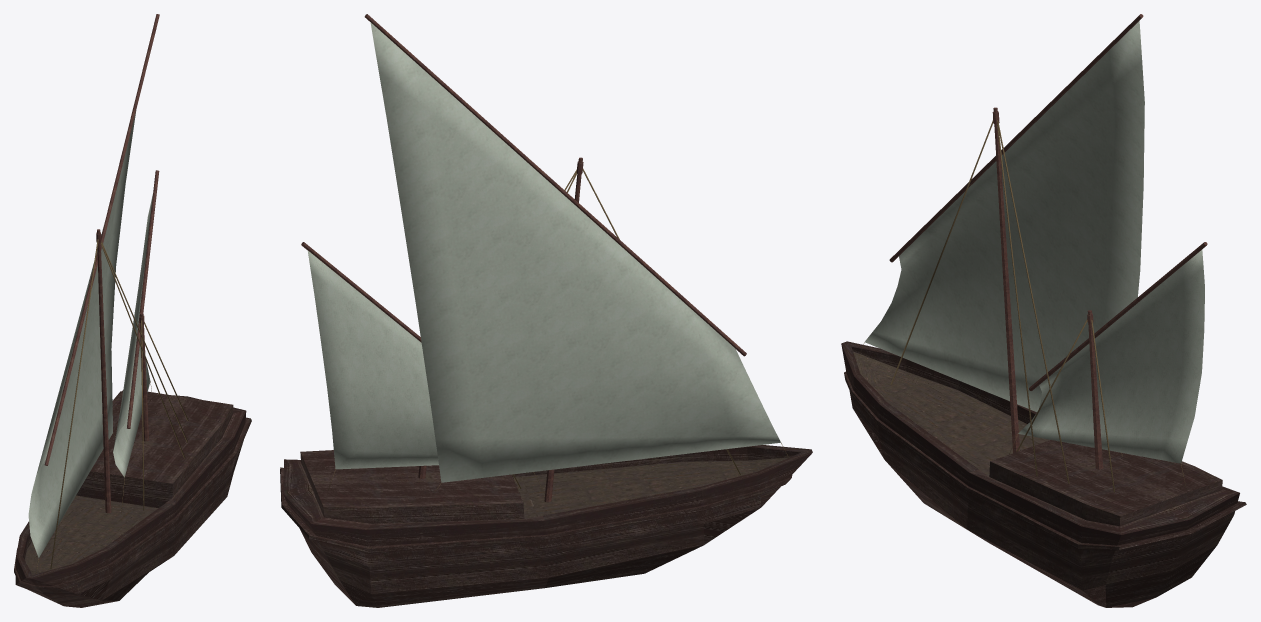
Rendered from dhow.glb.
3 renders of one model, left to right at view 1: azimuth 30°, elevation 25°; view 2: azimuth 150°, elevation 25°; view 3: azimuth 270°, elevation 25°, orthographic. The views are drawn at different scales.
Visible parts, largest first — view 1: dhow; view 2: dhow; view 3: dhow.
Boxes of the visible parts, x1,y1,x2,y2 form: dhow: [14, 14, 251, 607]; dhow: [280, 14, 812, 607]; dhow: [841, 14, 1246, 607].
Bounding box in the file's own units: 3.51 × 5 × 3.1.
5 materials, 5 textured.
